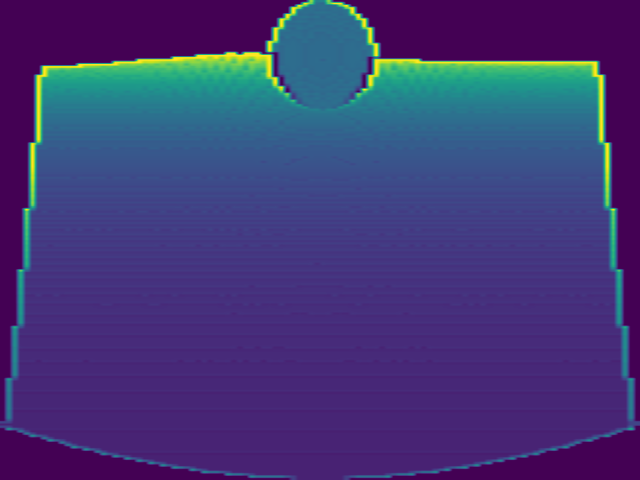sphere: (265, 1, 381, 109)
